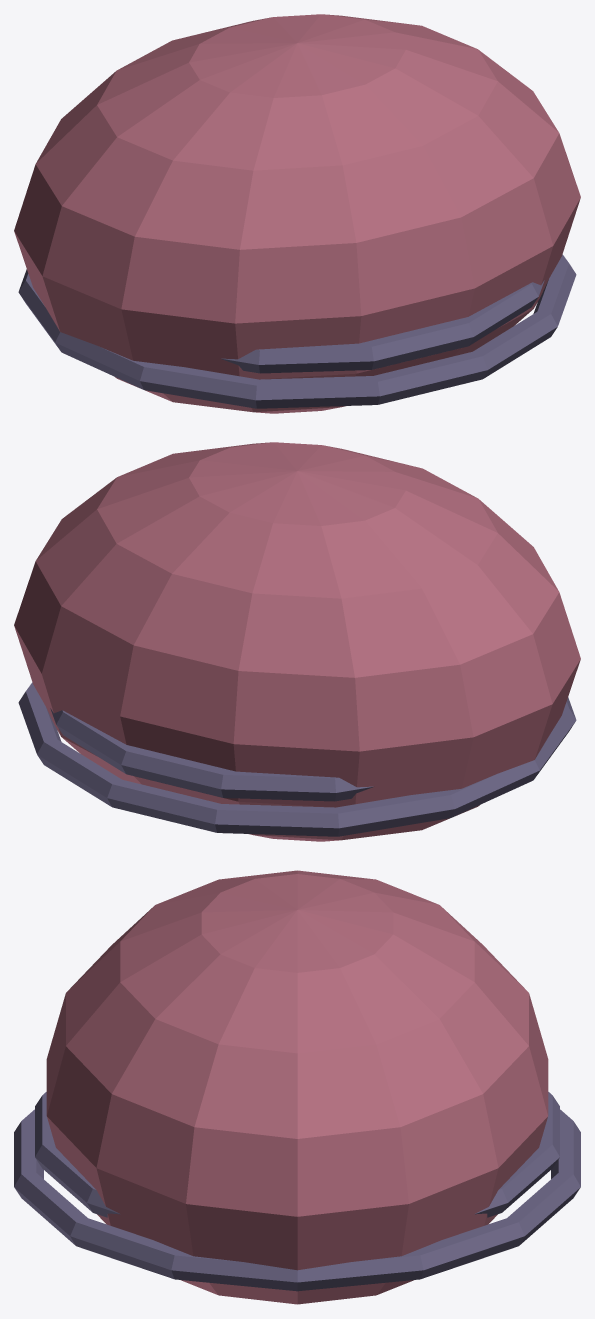
The model's file is nature-brain-coral.lod0.glb.
3 views of the same model, one above another, from view 1: azimuth 30°, elevation 25°; view 2: azimuth 150°, elevation 25°; view 3: azimuth 270°, elevation 25° (orthographic). The views are drawn at different scales.
Parts seen in each view (by area): view 1: nature-brain-coral__body; view 2: nature-brain-coral__body; view 3: nature-brain-coral__body.
Part boxes in pixels (left/top/right/bottom): nature-brain-coral__body: left=14, top=14, right=580, bottom=413; nature-brain-coral__body: left=14, top=442, right=580, bottom=841; nature-brain-coral__body: left=14, top=870, right=580, bottom=1304.
Bounding box in the file's own units: 1 × 0.64 × 0.9262.
